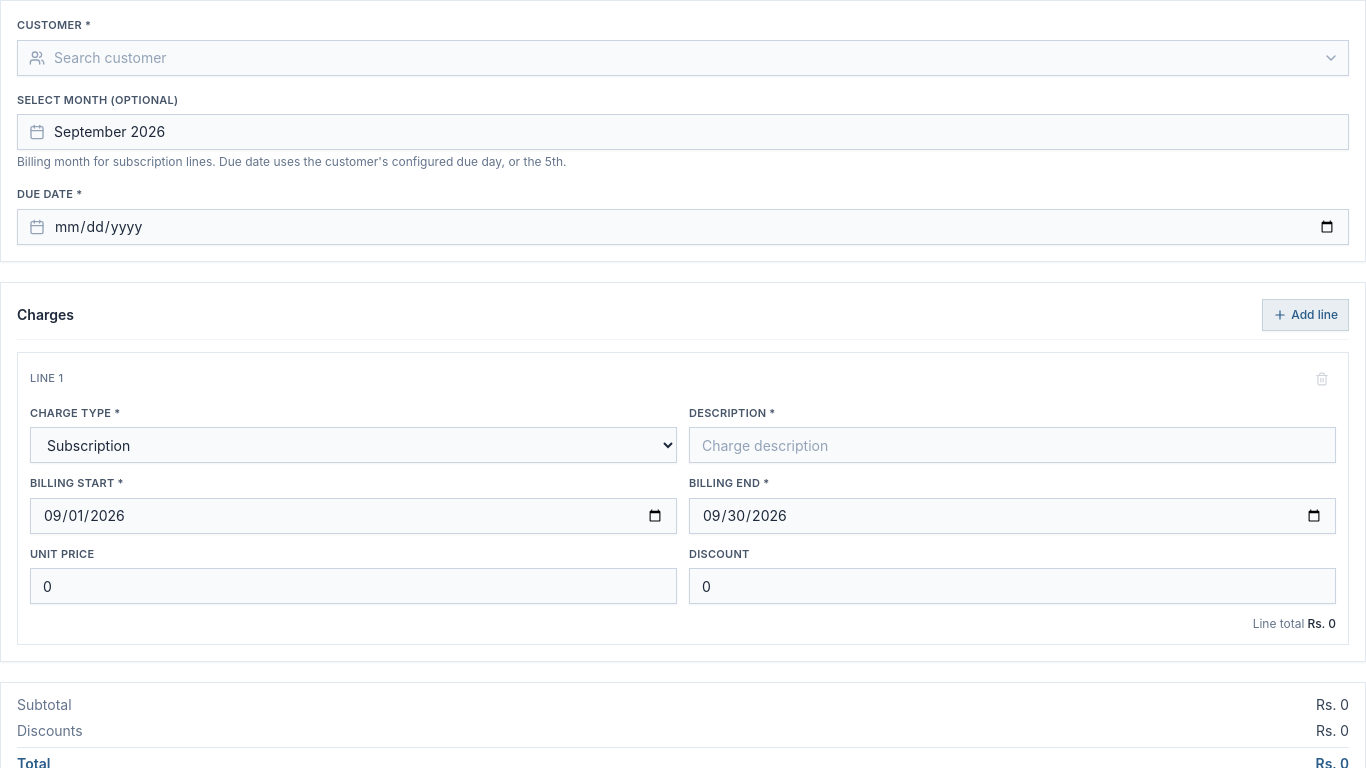
Test case: InvoiceForm multiline builder › syncs invoice_type to mixed when charge types differ
expect the heading "Charges" is shown: met, box [17,304,74,324]
What coordinates should you click on to do the following:
click the button "Add line"
I would click on:
 (1306, 314)
Its box is [1262,298,1349,330].
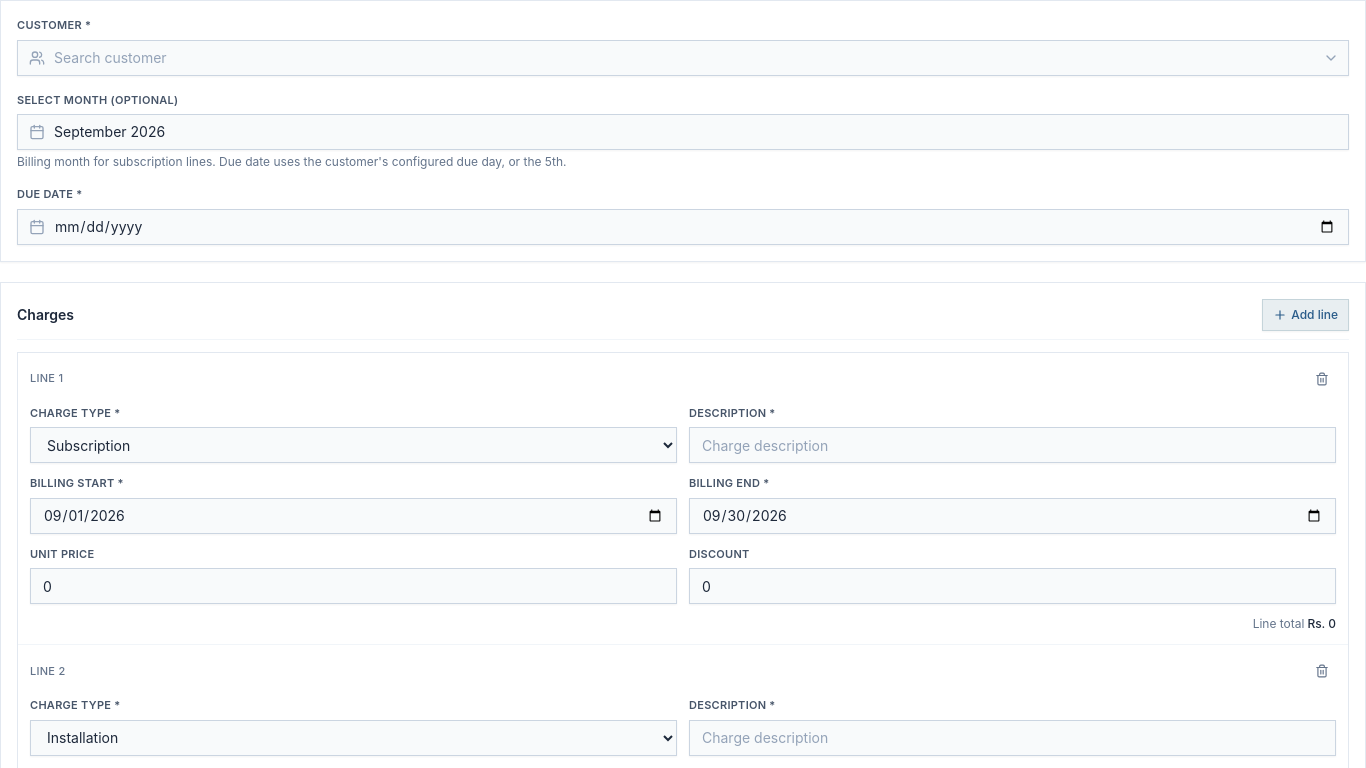
expect the text "Line 2" is shown: met, box [30,663,66,679]
expect the 3rd dropdown shows "Installation": met, box [30,720,677,756]
